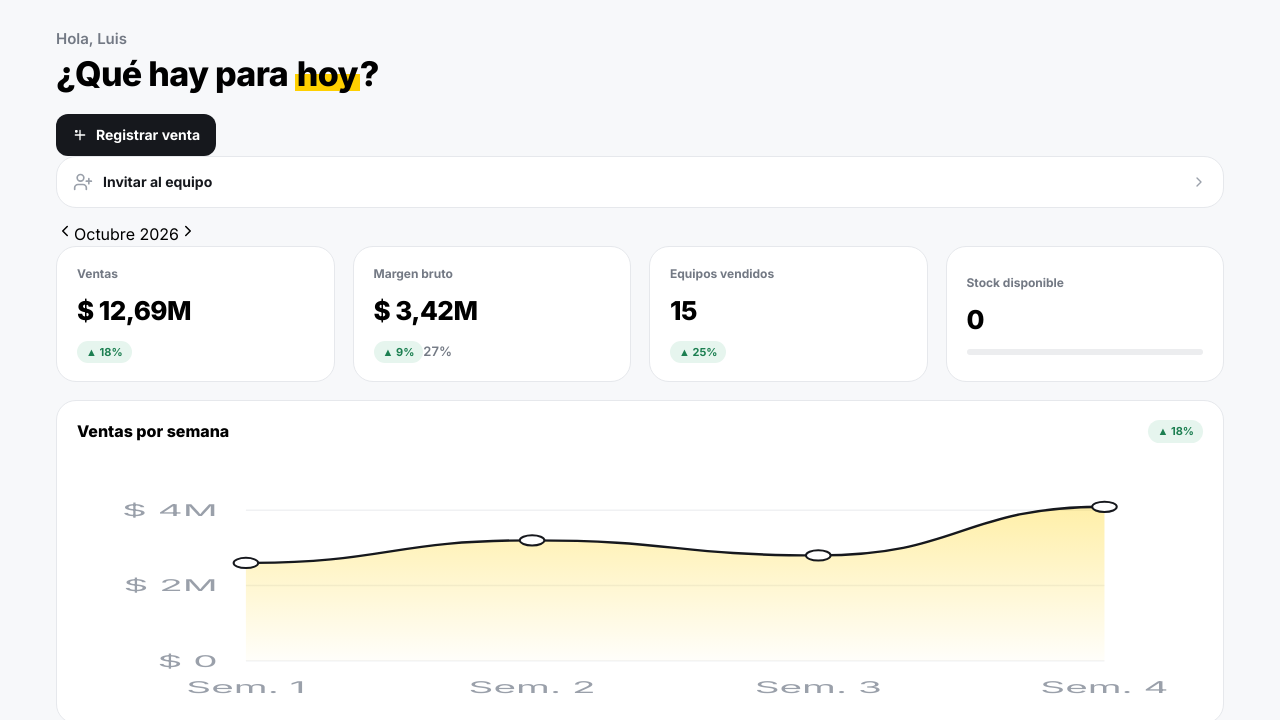
Test case: Acceso mobile al equipo › abre el flujo existente para OWNER y se oculta al crear una invitación
What coordinates should you click on to do the following:
click the button "Invitar al equipo"
I would click on:
 (158, 182)
Its box is [56,156,1224,208].
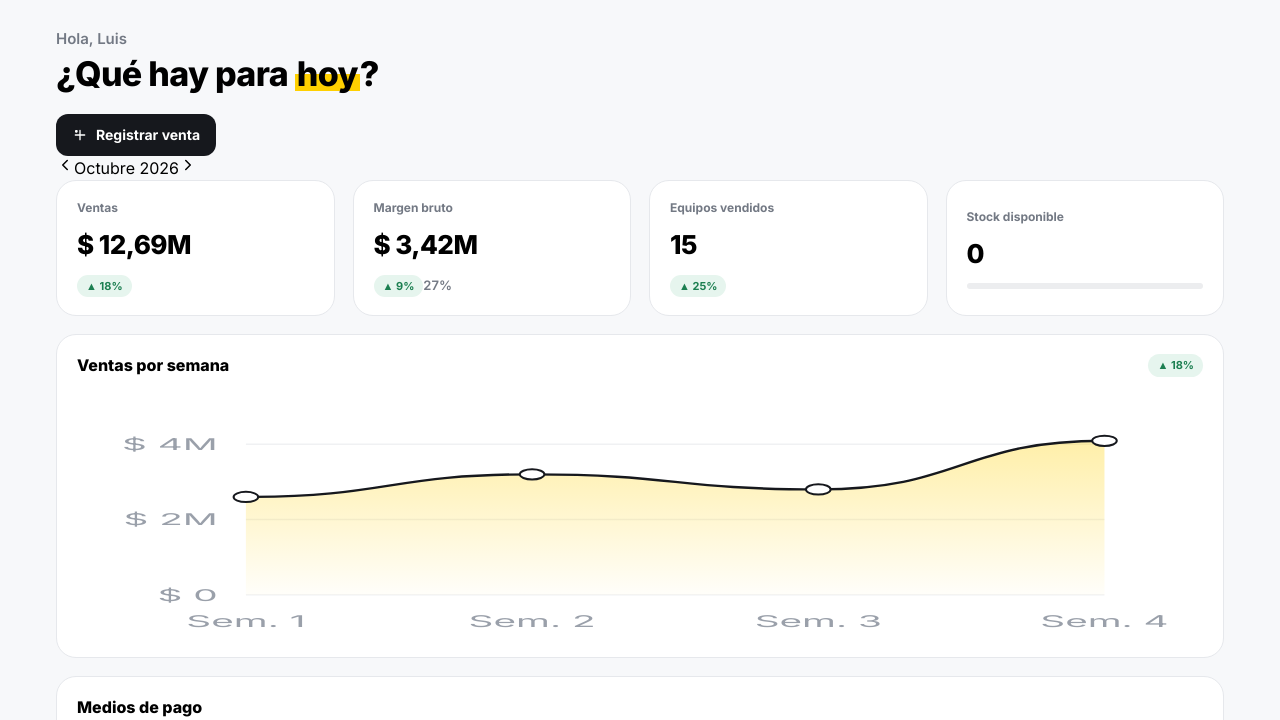
Check: the button "Invitar al equipo" is gone
